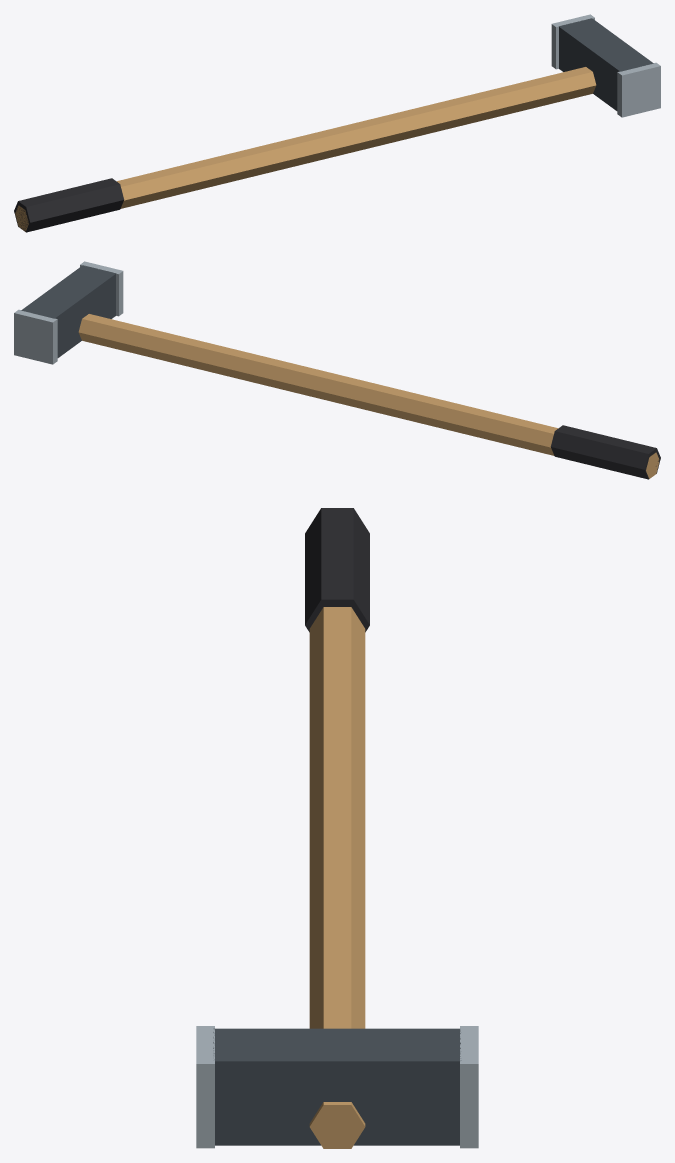
Rendered from GT_Sledgehammer_01.glb.
The picture shows the model from 3 angles, top to bottom: view 1: azimuth 30°, elevation 25°; view 2: azimuth 150°, elevation 25°; view 3: azimuth 270°, elevation 25°; orthographic projection. The views are drawn at different scales.
Parts seen in each view (by area): view 1: GT_Sledgehammer_01; view 2: GT_Sledgehammer_01; view 3: GT_Sledgehammer_01.
Part boxes in pixels (x1,y1,x2,y2): GT_Sledgehammer_01: (14,14,660,232); GT_Sledgehammer_01: (14,261,660,479); GT_Sledgehammer_01: (196,508,478,1148).
Bounding box in the file's own units: 0.9 × 0.06 × 0.182.
Materials: 1 (1 with a texture image).
